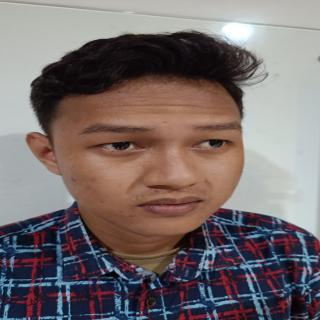Takut: (42, 67, 257, 244)
